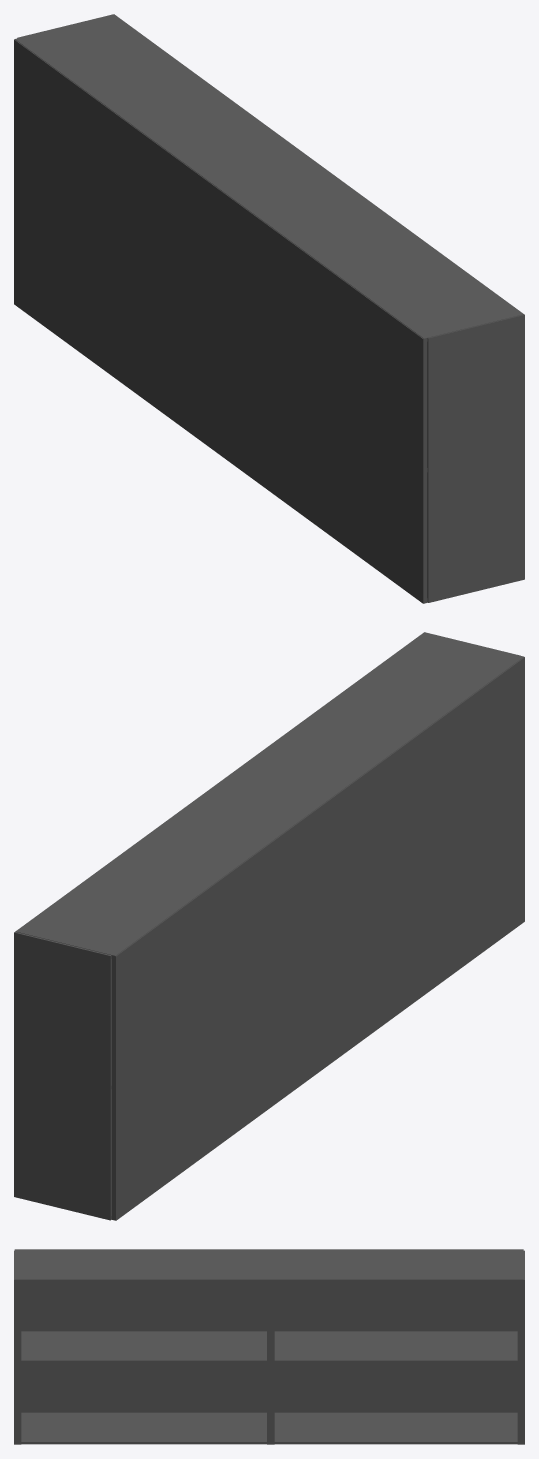
Rendered from Garage_Shelf.fbx.
The picture shows the model from 3 angles, top to bottom: view 1: azimuth 30°, elevation 25°; view 2: azimuth 150°, elevation 25°; view 3: azimuth 270°, elevation 25°; orthographic projection. The views are drawn at different scales.
Visible parts, largest first — view 1: Garage_Shelf; view 2: Garage_Shelf; view 3: Garage_Shelf.
Part boxes in pixels (left/top/right/bottom): Garage_Shelf: left=14, top=14, right=524, bottom=603; Garage_Shelf: left=14, top=632, right=524, bottom=1220; Garage_Shelf: left=14, top=1249, right=524, bottom=1444.
Bounding box in the file's own units: 26.92 × 67.39 × 189.
